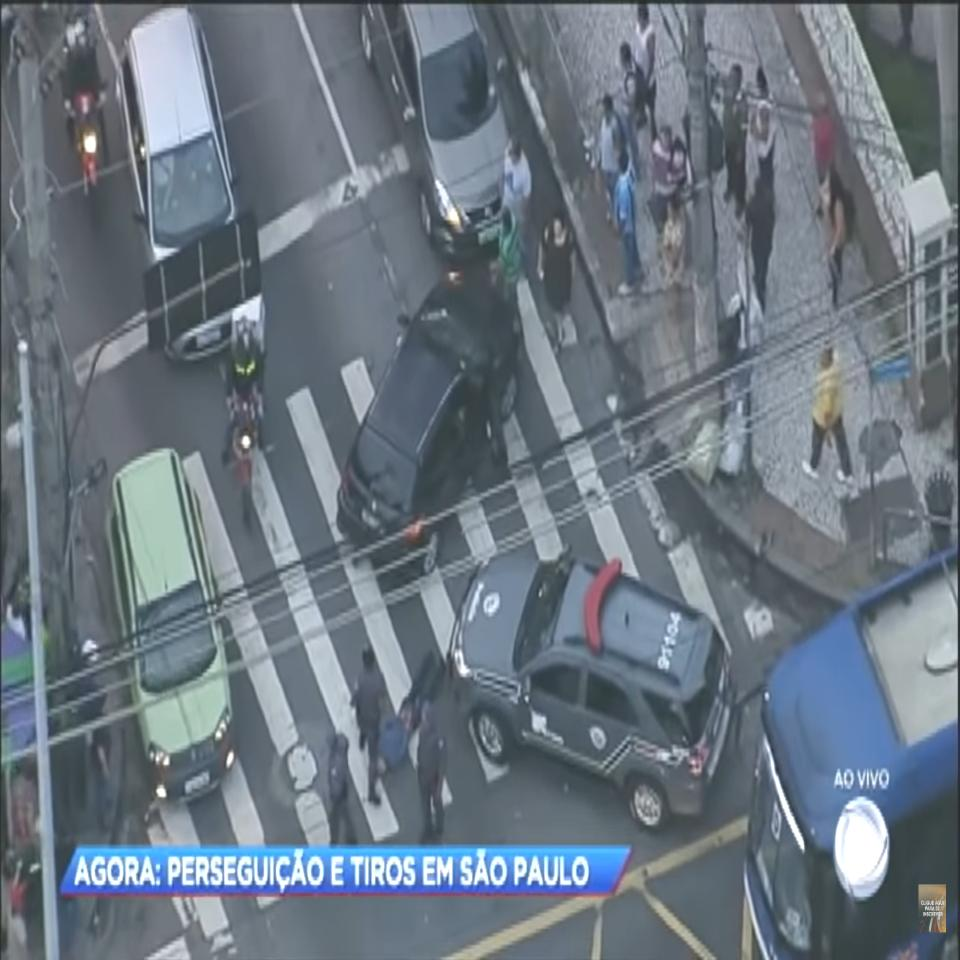viatura: (448, 540, 738, 837)
